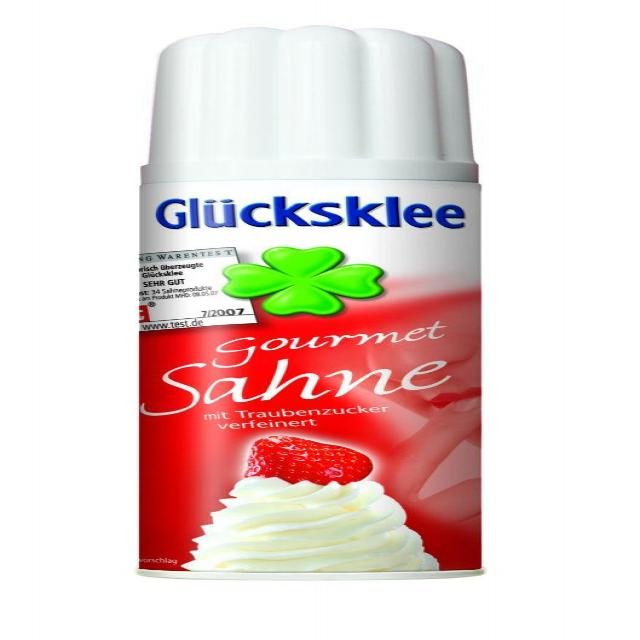Cream: (138, 26, 480, 580)
